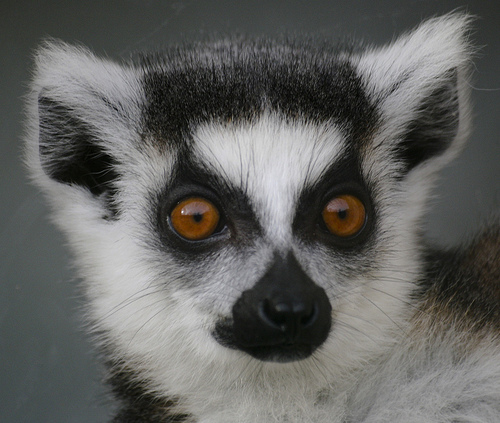cat: (23, 9, 498, 421)
